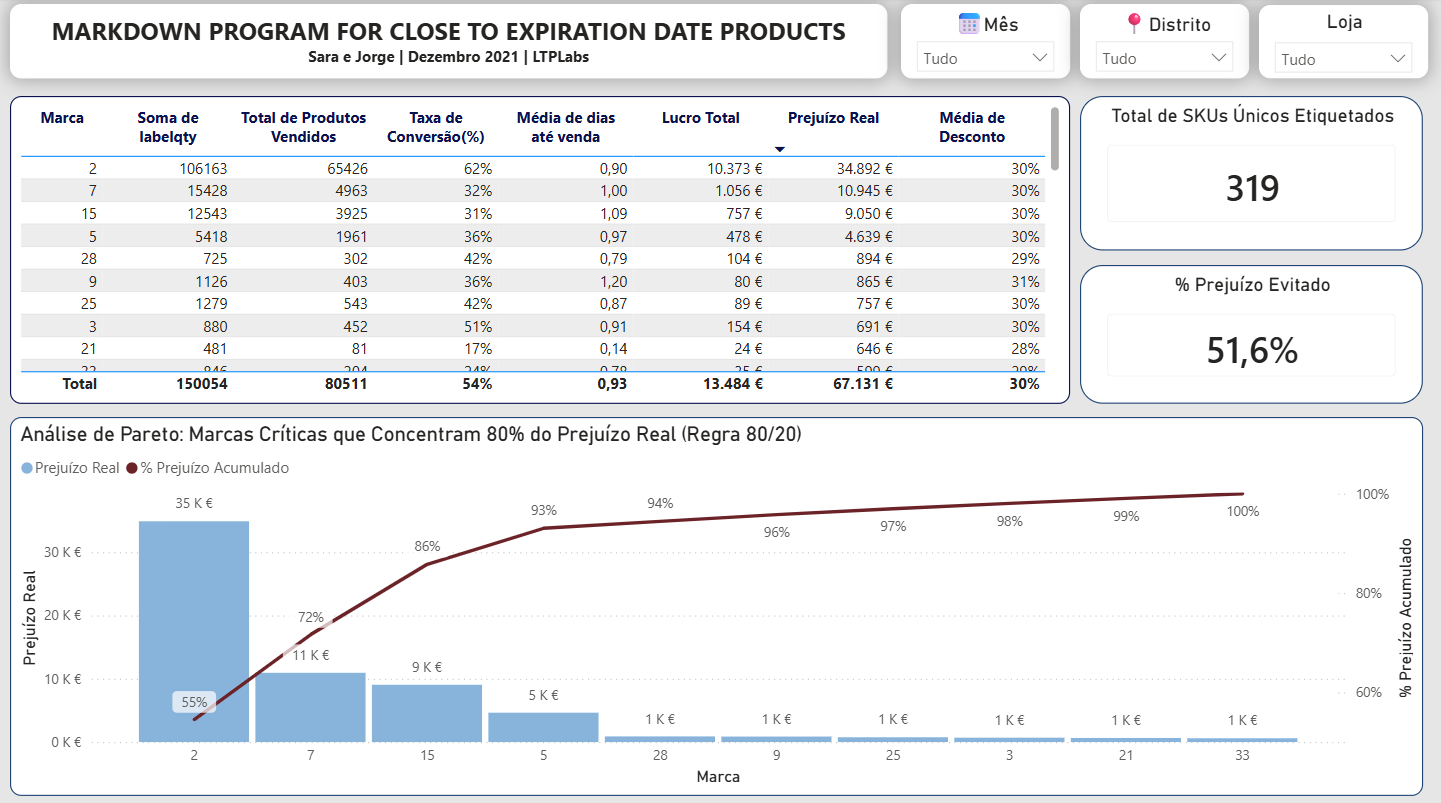

This screenshot's page, from the dashboard's own definition file:
{"tool":"powerbi","page":{"name":"Details","canvas":[1280,720],"ordinal":2},"visuals":[{"type":"textbox","box":[10,5.6,777.8,65.6],"z":0},{"type":"slicer","title":"📅Mês ","fields":{"Values":["Calendario.Mês"]},"box":[800,5.6,150,65.6],"z":1000},{"type":"slicer","title":"📍Distrito","fields":{"Values":["Stores.district"]},"box":[958.9,5.6,150,65.6],"z":2000},{"type":"slicer","title":"Loja","fields":{"Values":["Stores.idstore"]},"box":[1117.4,5.8,150,65.1],"z":3000},{"type":"lineClusteredColumnComboChart","title":"Análise de Pareto: Marcas Críticas que Concentram 80% do Prejuízo Real (Regra 80/20)","fields":{"Y":["Products.Prejuízo Real"],"Category":["Products.brand"],"Y2":["Products.% Acumulado Prejuízo"]},"box":[10,371.1,1253.3,335.6],"z":4000},{"type":"tableEx","fields":{"Values":["Products.Marca","Sum(Products.labelqty)","Products.Total de Produtos Vendidos","Products.Taxa de Conversão(%)","Products.Média de dias até venda","Products.Lucro Total","Products.Prejuízo Real","Avg(Products.discount)"]},"box":[10,86.7,940,273.3],"z":5000},{"type":"cardVisual","title":"Total de SKUs Únicos Etiquetados","fields":{"Data":["Count(Products.sku)"]},"box":[958.9,86.7,304.4,136.7],"z":6000},{"type":"cardVisual","title":"% Prejuízo Evitado","fields":{"Data":["Products.% Lucro sobre Perda"]},"box":[958.9,236.7,304.4,123.3],"z":7000}]}

Visuals, with their boxes in screenshot pixels (x1, y1, x2, y2), scaled from the page's 1280x720 canvas onto the 1441x803 screenshot:
textbox: [x1=11, y1=6, x2=887, y2=79]
"📅Mês " slicer: [x1=901, y1=6, x2=1069, y2=79]
"📍Distrito" slicer: [x1=1080, y1=6, x2=1248, y2=79]
"Loja" slicer: [x1=1258, y1=6, x2=1427, y2=79]
"Análise de Pareto: Marcas Críticas que Concentram 80% do Prejuízo Real (Regra 80/20)" lineClusteredColumnComboChart: [x1=11, y1=414, x2=1422, y2=788]
tableEx - Products.Marca x Sum(Products.labelqty): [x1=11, y1=97, x2=1069, y2=402]
"Total de SKUs Únicos Etiquetados" cardVisual: [x1=1080, y1=97, x2=1422, y2=249]
"% Prejuízo Evitado" cardVisual: [x1=1080, y1=264, x2=1422, y2=402]
